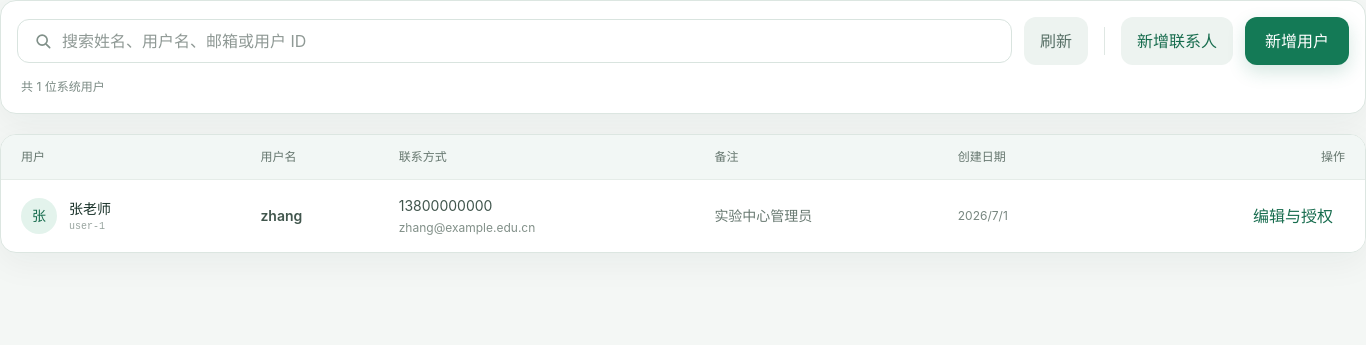
Test: AccountManagement › loads users into a searchable management table
Expected: the text "张老师" is shown, [69,198,111,218]
Expected: the column heading "用户名" is shown, [244,135,383,180]
Type "不存在" into the field with placeholder "搜索姓名、用户名、邮箱或用户 ID" at (514, 41), box [17,19,1012,63]
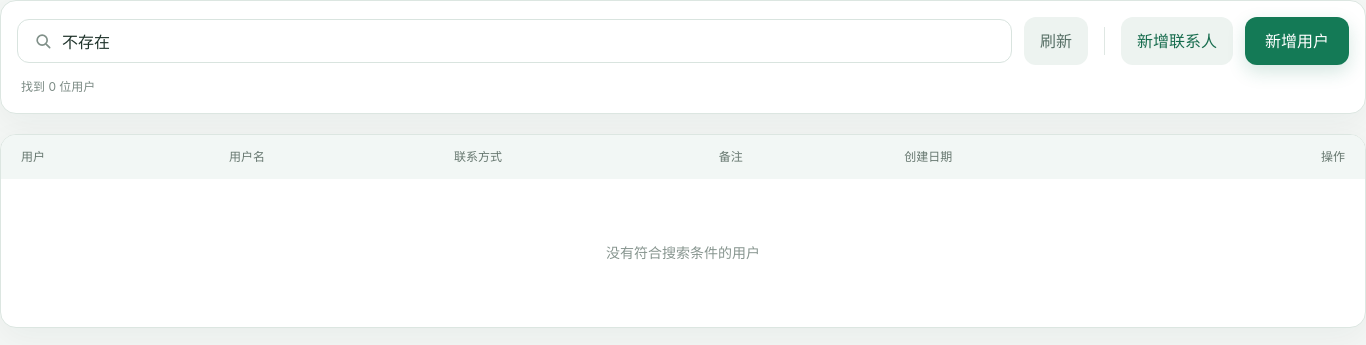
Result: the text "没有符合搜索条件的用户" is shown at [1,179,1365,327]
